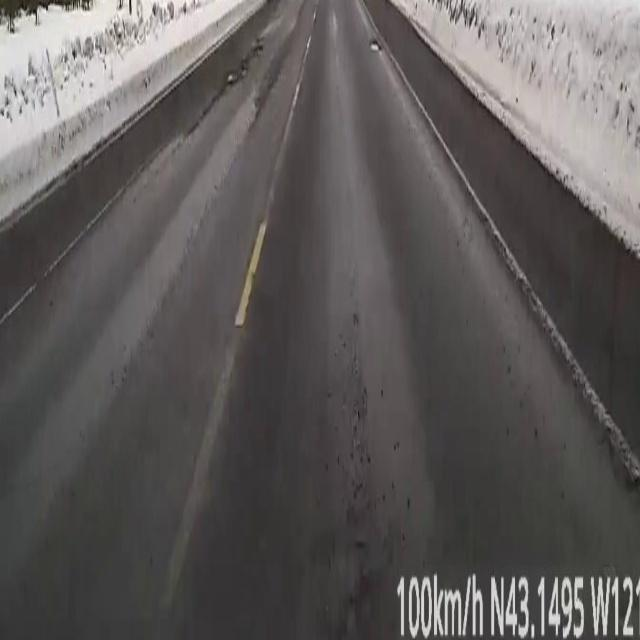pothole: (228, 74, 240, 84), (253, 44, 262, 54), (370, 41, 380, 50), (241, 65, 246, 75)
